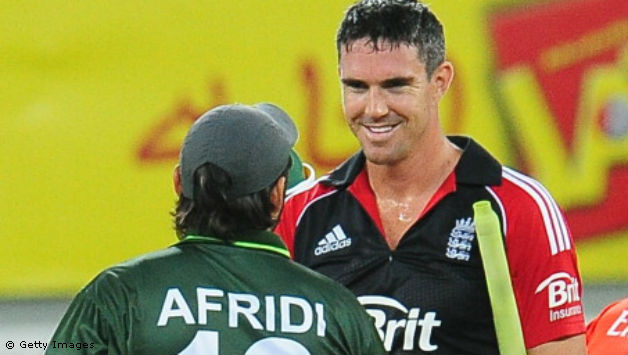NoMask: (343, 71, 422, 165)
